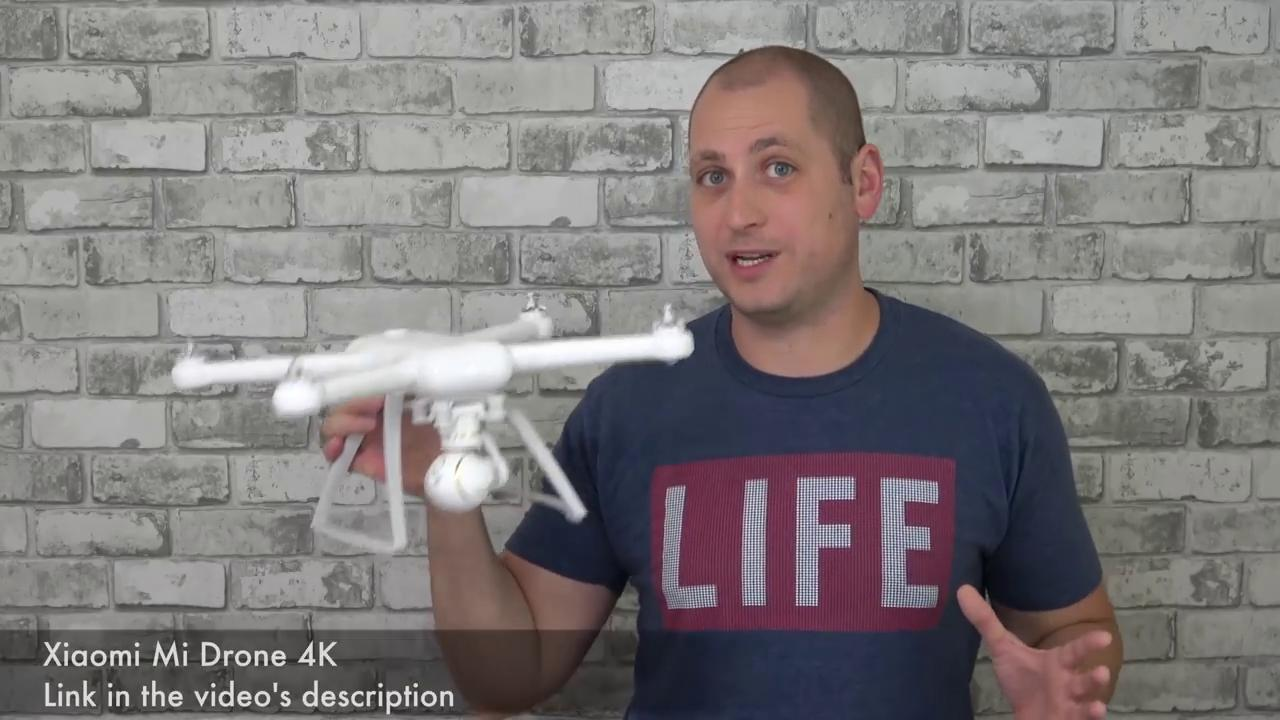drone: (150, 272, 714, 421)
